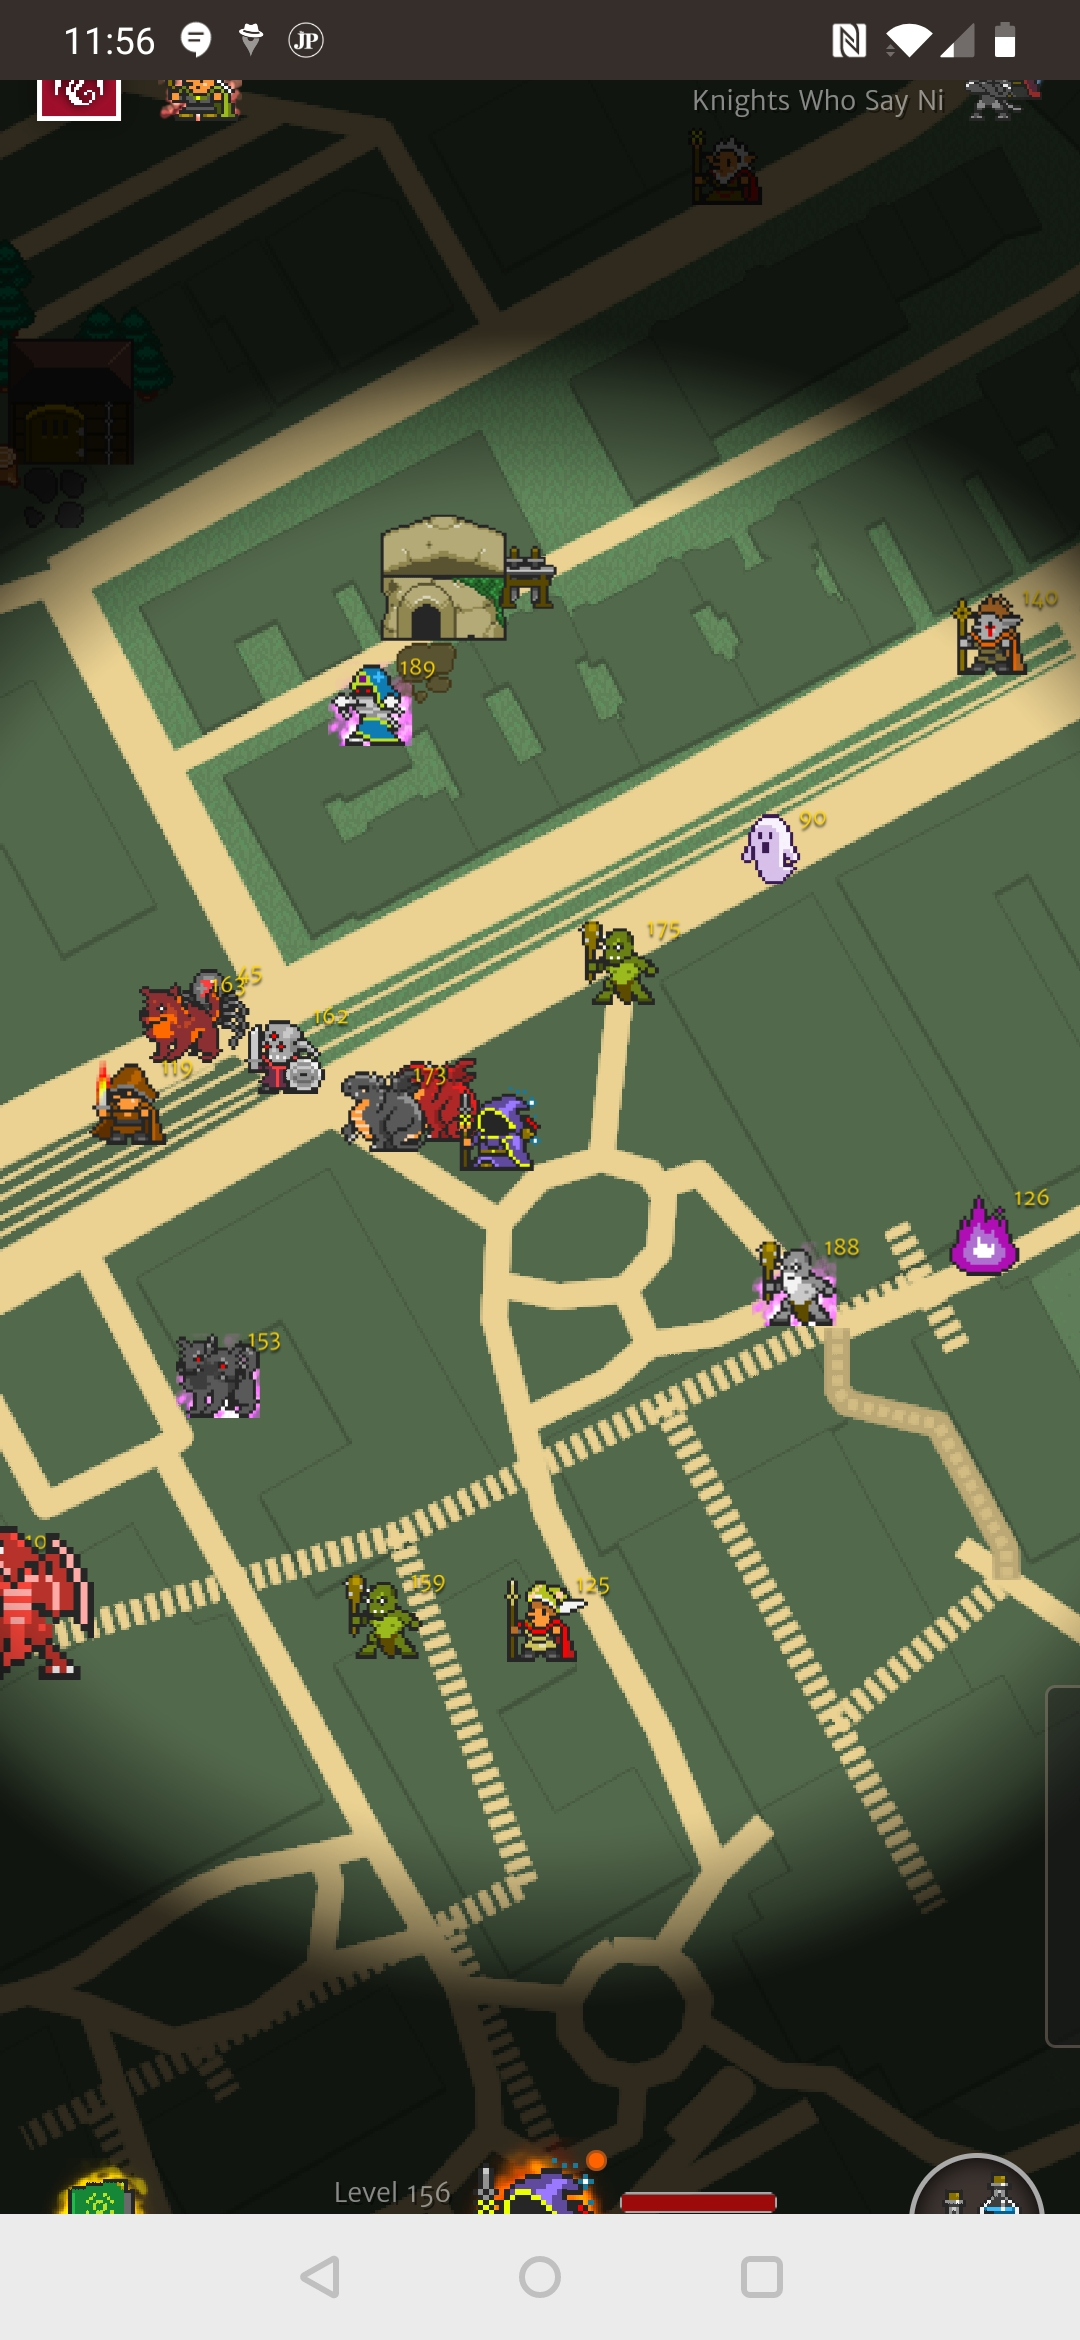monster: (163, 1327, 288, 1434), (339, 1561, 446, 1675), (950, 585, 1050, 706), (577, 913, 681, 1023), (332, 661, 439, 761), (498, 1568, 591, 1682), (746, 1237, 853, 1334), (732, 802, 836, 899), (95, 1068, 184, 1158), (946, 1199, 1039, 1282)
player: (457, 1089, 553, 1185)
